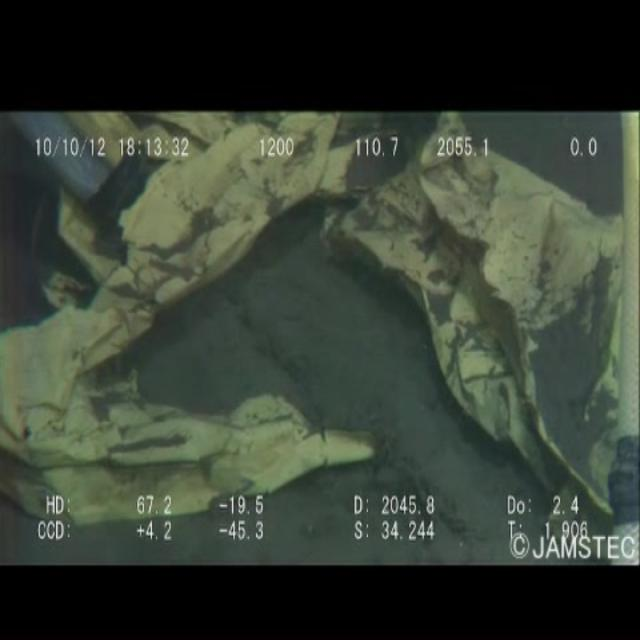Accessories: (3, 117, 401, 511), (333, 104, 640, 538)
